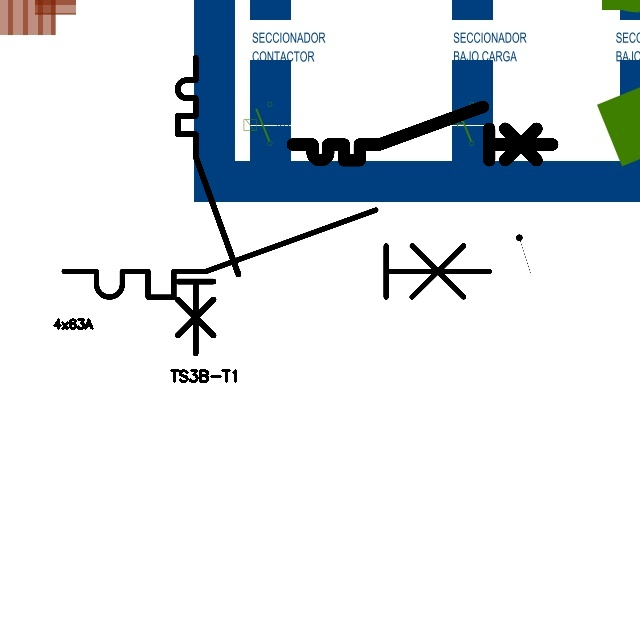interruptor_termomagnetico: (53, 199, 501, 308), (170, 50, 246, 361), (286, 100, 559, 167)
